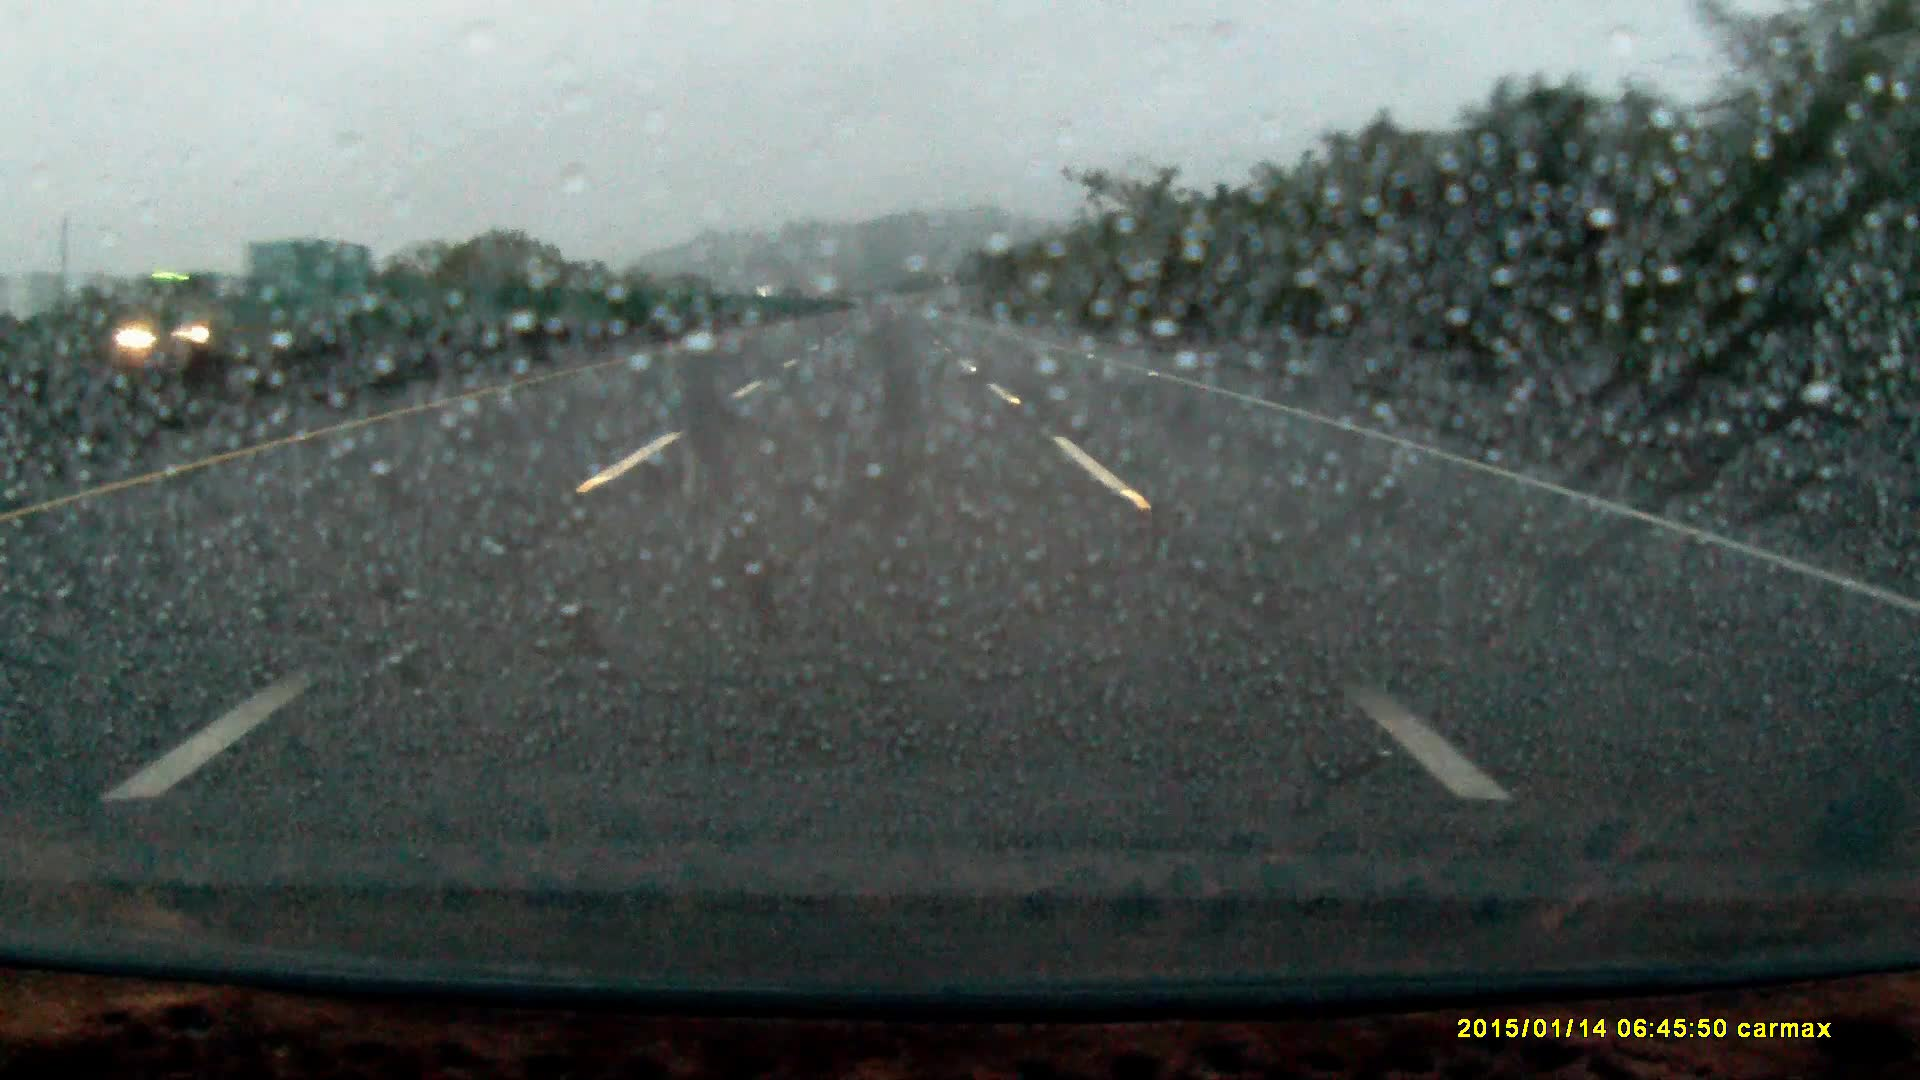vehicle: (99, 240, 376, 385)
